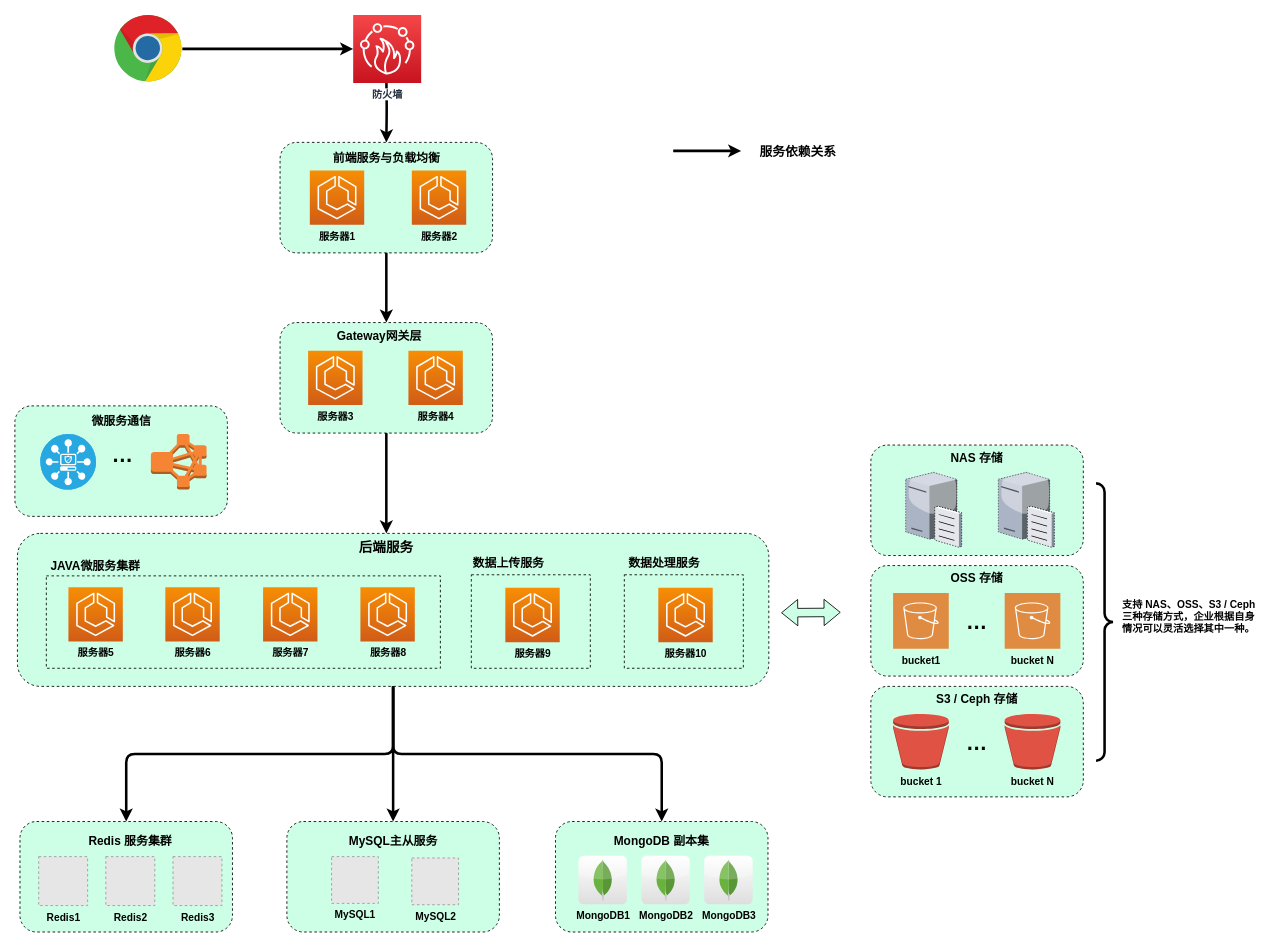
The diagram is 1277 pixels wide and 947 high, and some of its shapes have lost their labels. Grey dashed boxes stand in for pictures. Here are the shapes that lost their labels. From the top down, the centre of each, then its label:
the point at 147,48: 客户端浏览器
the point at 68,461: dubbo
the point at 178,461: nacos
